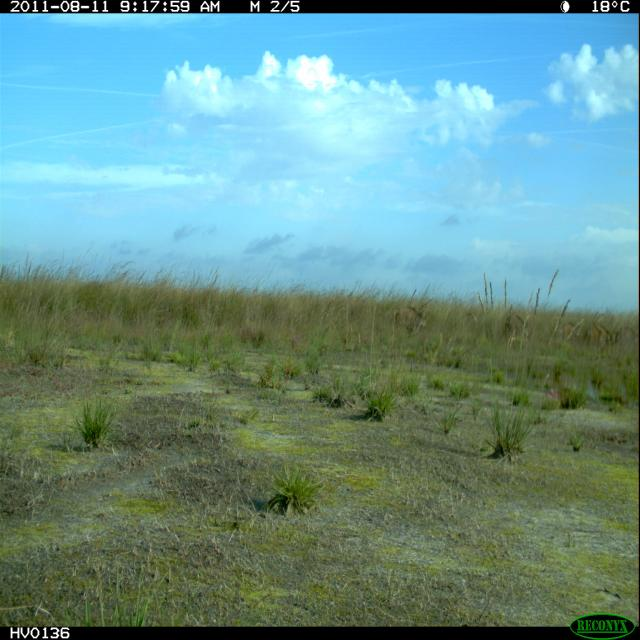boar: (574, 309, 632, 364), (387, 287, 435, 343)
